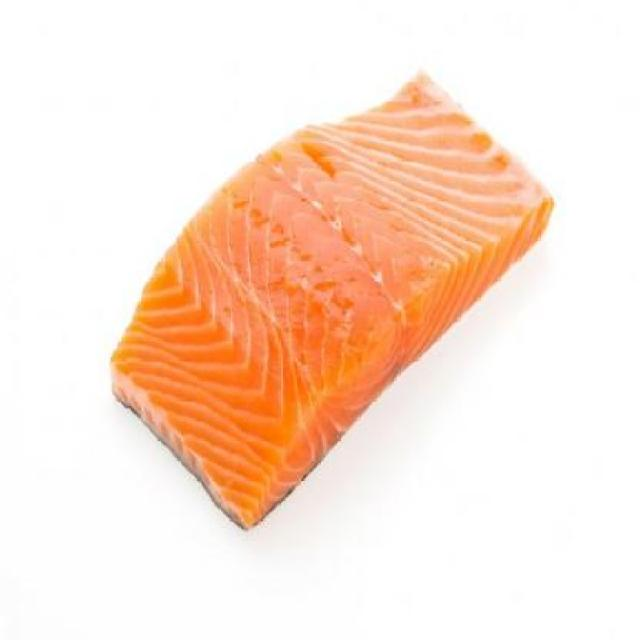salmon: (93, 58, 572, 537)
